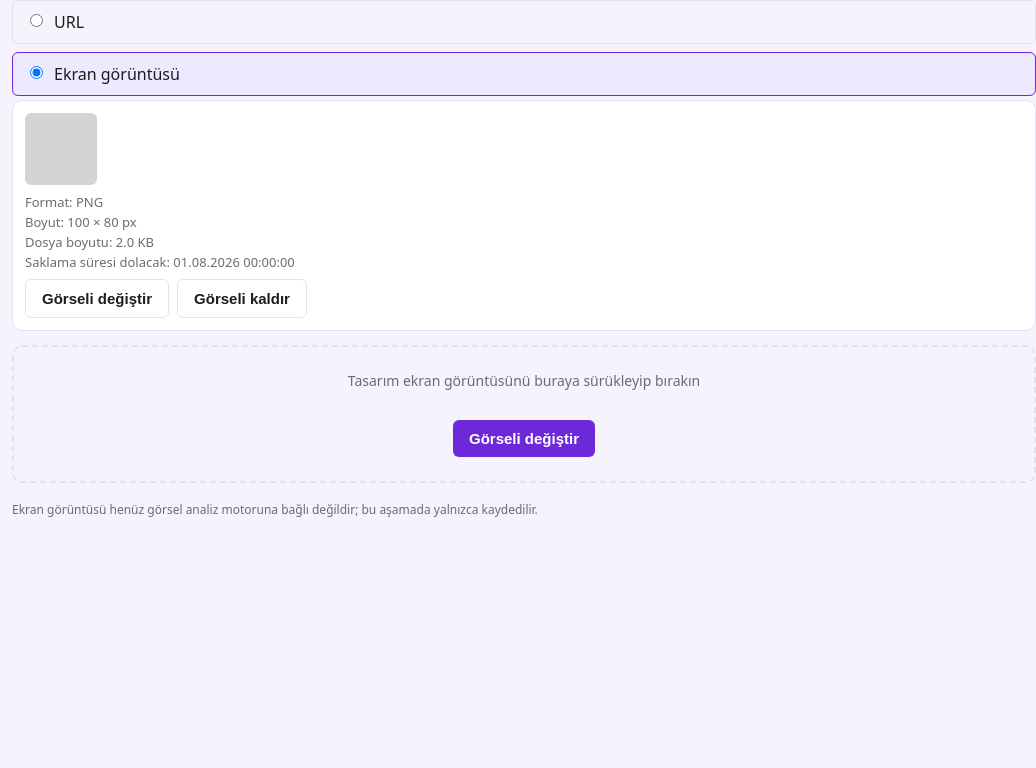
Test case: DesignSourcePicker › silme hatasinda asset referansi korunur ve hata gosterilir
Click the button "Görseli kaldır": (242, 298) [177,279,307,318]
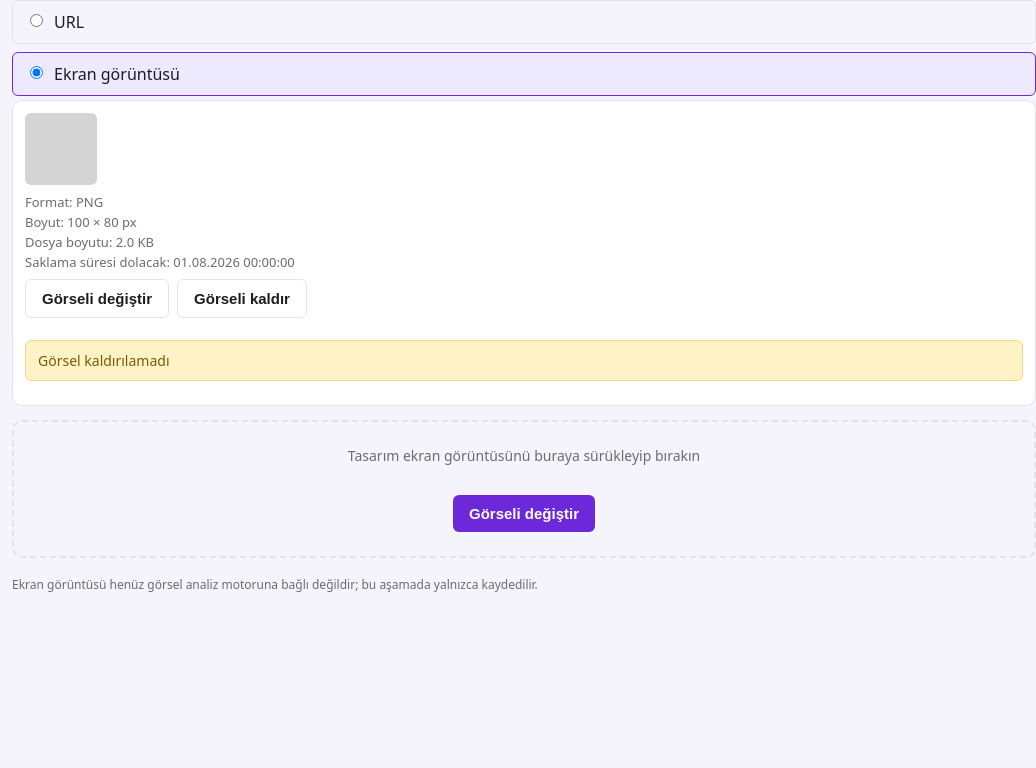
Check: the text "Görsel kaldırılamadı" is shown, box [25,340,1023,381]
